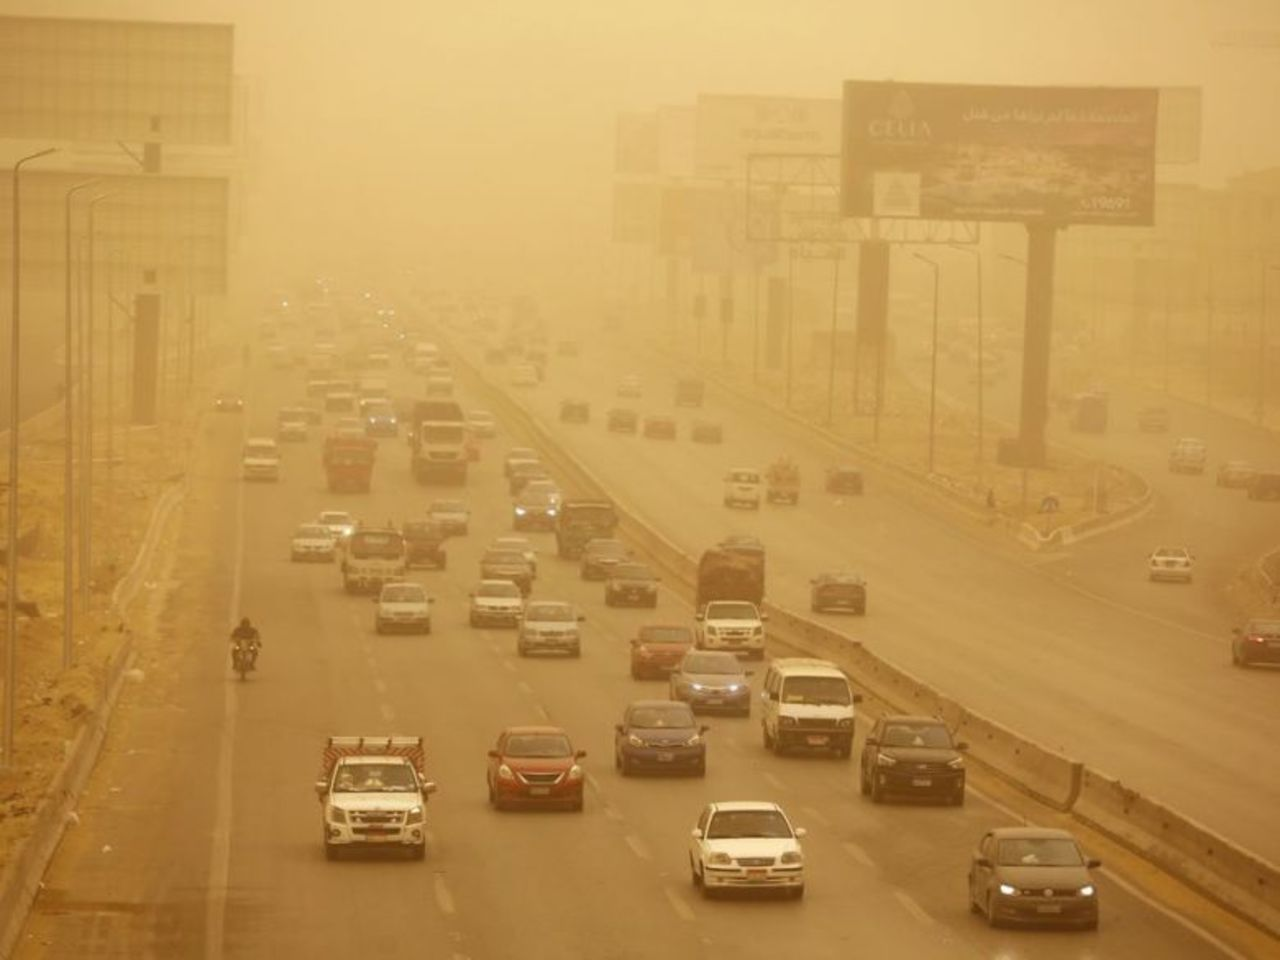bus: (1067, 393, 1109, 433)
car: (318, 731, 430, 859), (969, 825, 1101, 930), (687, 799, 809, 900), (754, 659, 857, 762), (857, 716, 966, 807), (484, 724, 588, 812), (614, 700, 707, 776), (667, 649, 750, 718), (628, 622, 698, 680), (374, 579, 435, 634), (518, 603, 583, 655), (808, 567, 870, 618), (1232, 613, 1279, 670), (466, 583, 527, 625), (605, 566, 662, 607), (403, 522, 448, 570), (580, 539, 630, 580), (287, 523, 334, 563), (475, 550, 529, 582), (511, 493, 557, 530), (1148, 546, 1195, 582), (722, 470, 761, 512), (241, 441, 279, 483), (822, 462, 863, 496), (428, 501, 469, 534), (317, 513, 358, 546), (1213, 460, 1254, 489), (502, 449, 539, 476), (277, 410, 308, 441), (1168, 450, 1203, 475), (425, 367, 453, 399), (642, 412, 676, 438), (1138, 407, 1170, 432), (215, 389, 246, 413), (557, 398, 590, 422), (326, 384, 353, 411), (467, 411, 494, 439), (607, 408, 636, 433), (367, 410, 396, 435), (689, 422, 719, 444), (413, 346, 436, 372), (1245, 475, 1268, 500)
motorcycle: (226, 640, 260, 684)
person: (228, 617, 260, 669)
truck: (693, 548, 768, 658), (407, 401, 467, 485), (339, 529, 406, 596), (321, 433, 378, 496), (765, 459, 800, 505), (304, 353, 337, 394), (358, 376, 388, 416), (675, 379, 703, 407)
